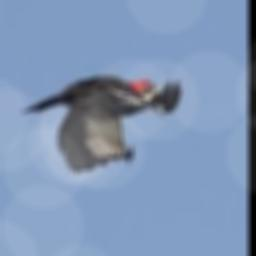Woodpecker: (20, 74, 180, 173)
